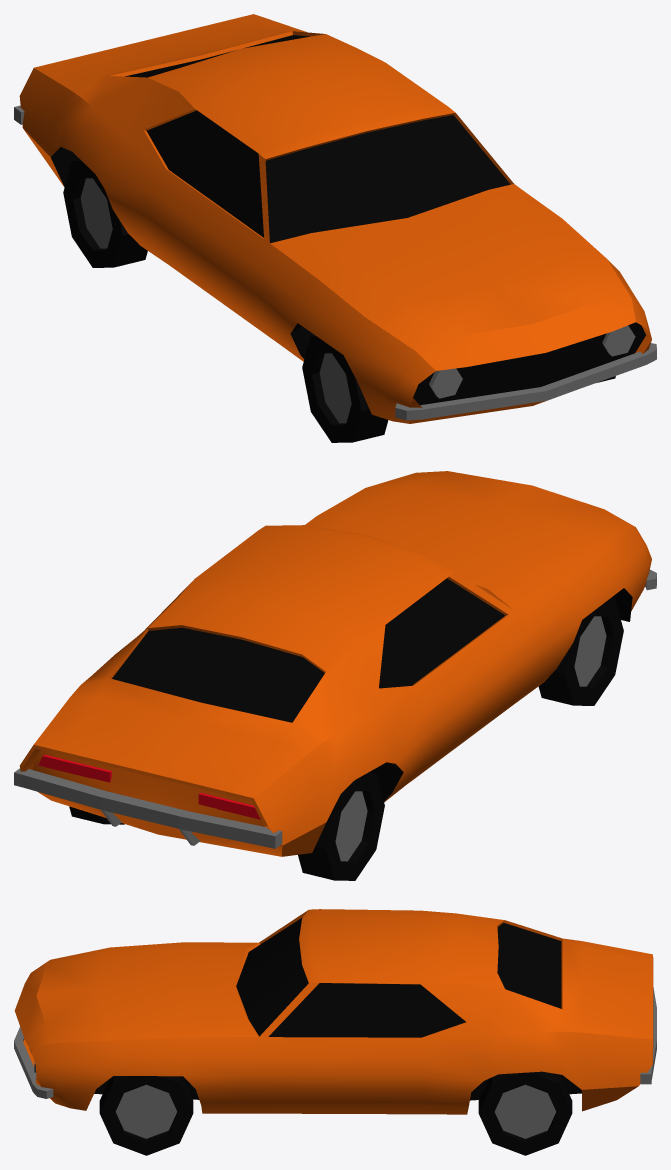
File: Car.fbx
3 views of the same model, one above another, from view 1: azimuth 30°, elevation 25°; view 2: azimuth 150°, elevation 25°; view 3: azimuth 270°, elevation 25° (orthographic). The views are drawn at different scales.
Visible parts, largest first — view 1: Body; view 2: Body; view 3: Body.
Part boxes in pixels (left/top/right/bottom): Body: left=14, top=14, right=656, bottom=442; Body: left=14, top=471, right=656, bottom=880; Body: left=14, top=909, right=656, bottom=1155.
Bounding box in the file's own units: 131 × 91.89 × 316.
